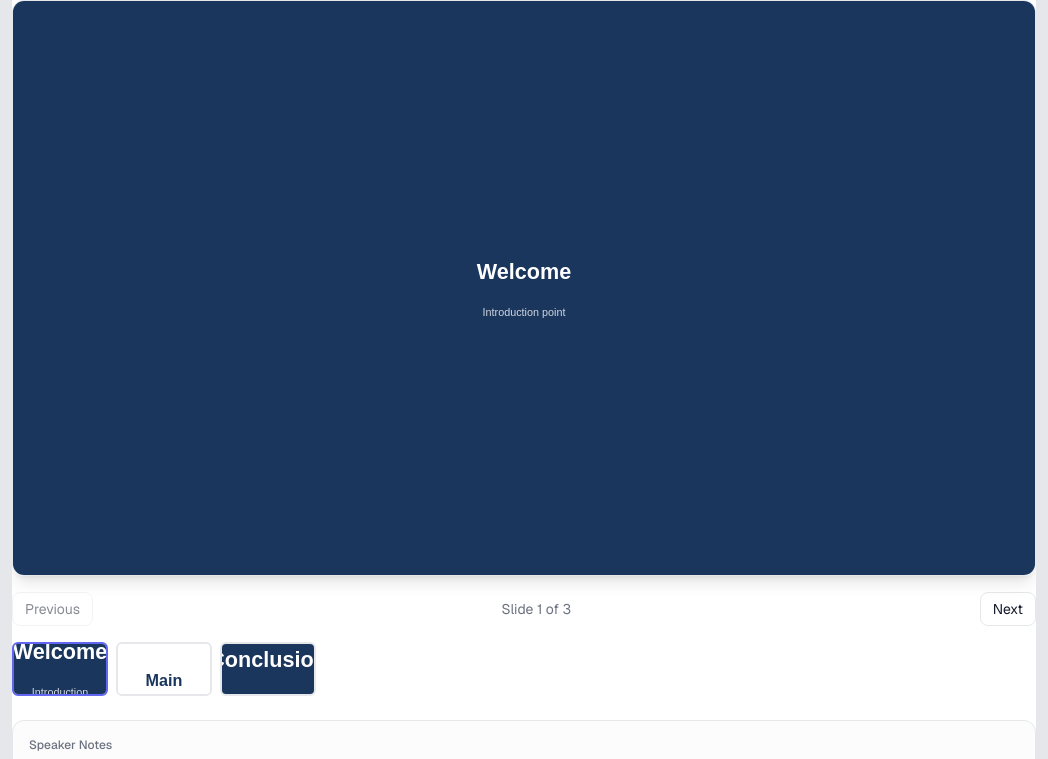
Test: SlidePreview › navigates to previous slide
The width and height of the screenshot is (1048, 759).
Click the button "Next" at x=1008, y=609, box [980, 592, 1036, 626]
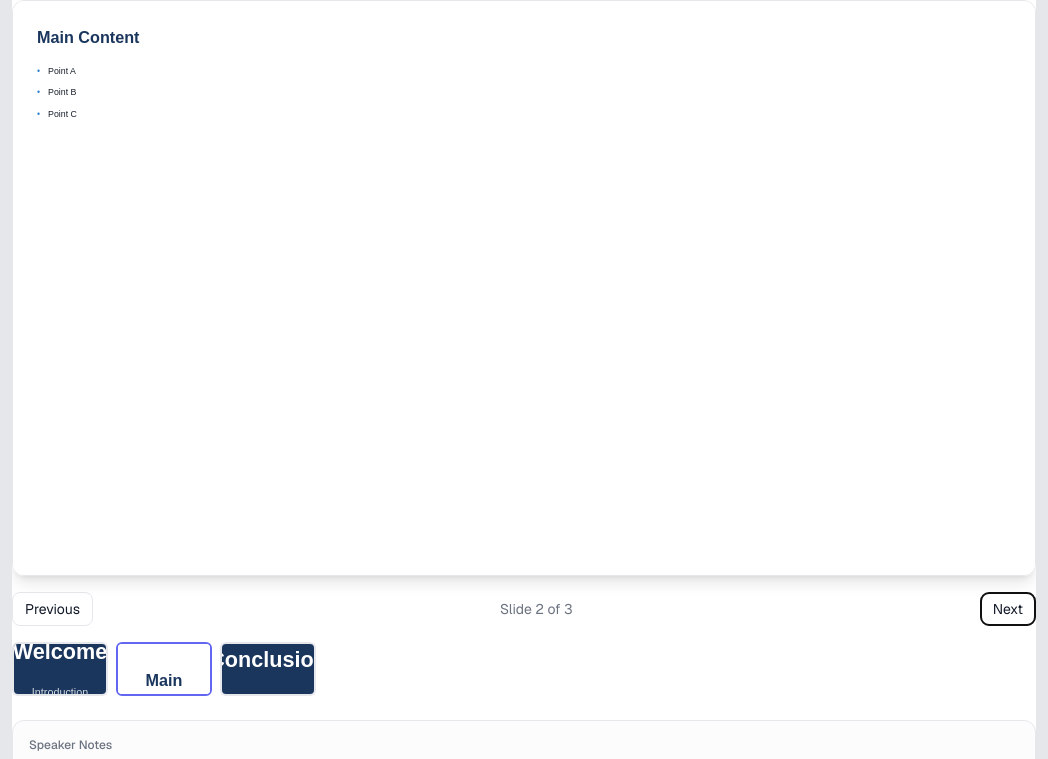
Click the button "Previous" at x=52, y=609, box [12, 592, 93, 626]
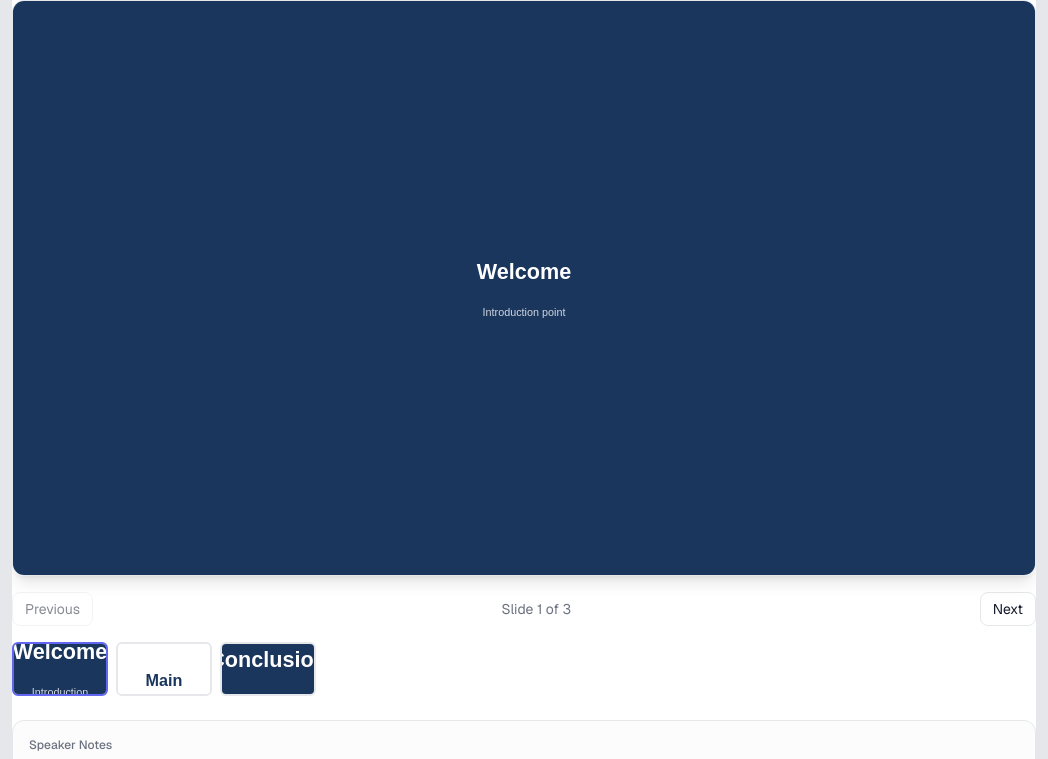
Expected: the text "Slide 1 of 3" is shown, [502, 599, 571, 619]
